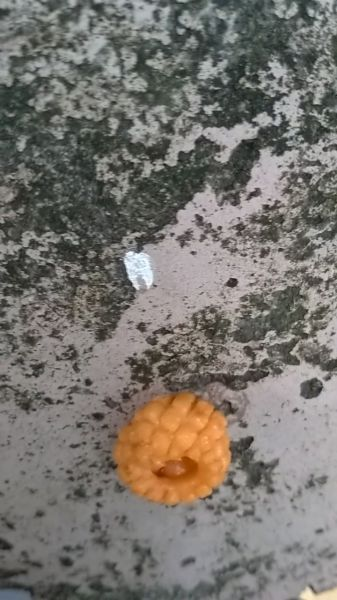eggs: (108, 388, 236, 508)
